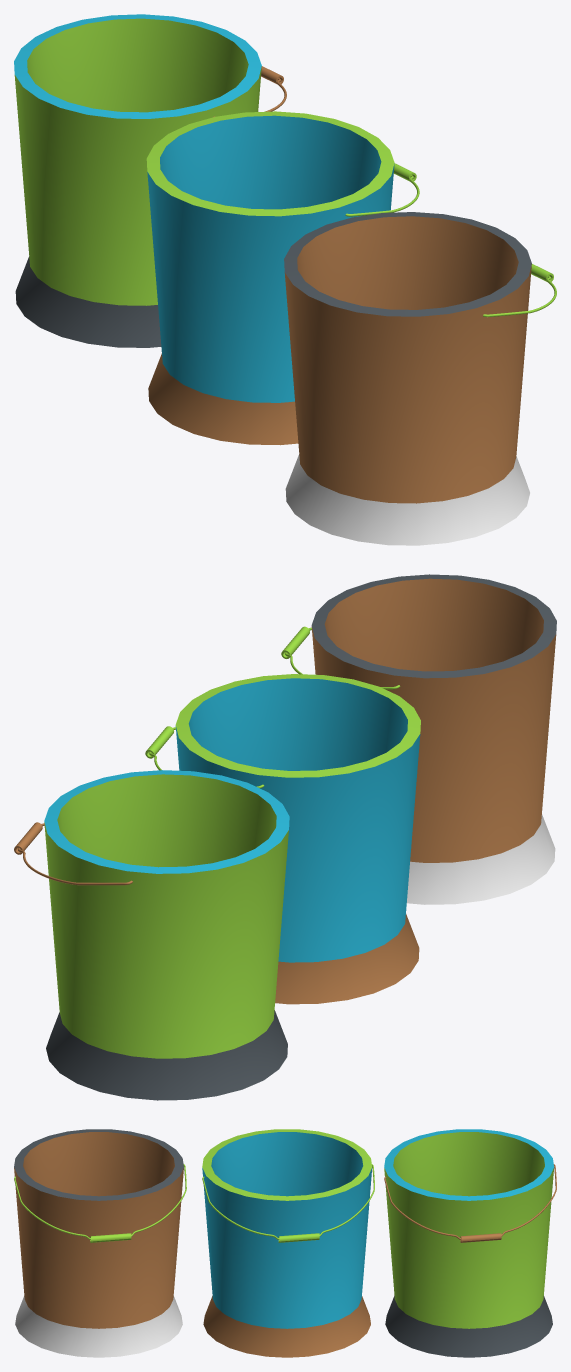
File: color shap 12.FBX
3 views of the same model, one above another, from view 1: azimuth 30°, elevation 25°; view 2: azimuth 150°, elevation 25°; view 3: azimuth 270°, elevation 25° (orthographic). The views are drawn at different scales.
Visible parts, largest first — view 1: Cylinder001, Cylinder002, Cylinder003; view 2: Cylinder003, Cylinder001, Cylinder002; view 3: Cylinder002, Cylinder003, Cylinder001.
Part boxes in pixels (left/top/right/bottom): Cylinder001: left=284, top=212, right=556, bottom=545; Cylinder002: left=146, top=111, right=419, bottom=445; Cylinder003: left=14, top=14, right=286, bottom=347; Cylinder003: left=14, top=770, right=289, bottom=1100; Cylinder001: left=281, top=574, right=556, bottom=904; Cylinder002: left=145, top=674, right=420, bottom=1004; Cylinder002: left=202, top=1129, right=374, bottom=1357; Cylinder003: left=384, top=1129, right=556, bottom=1357; Cylinder001: left=14, top=1129, right=186, bottom=1357.
Bounding box in the file's own units: 190 × 169 × 527.
Materials: 1 (1 with a texture image).
